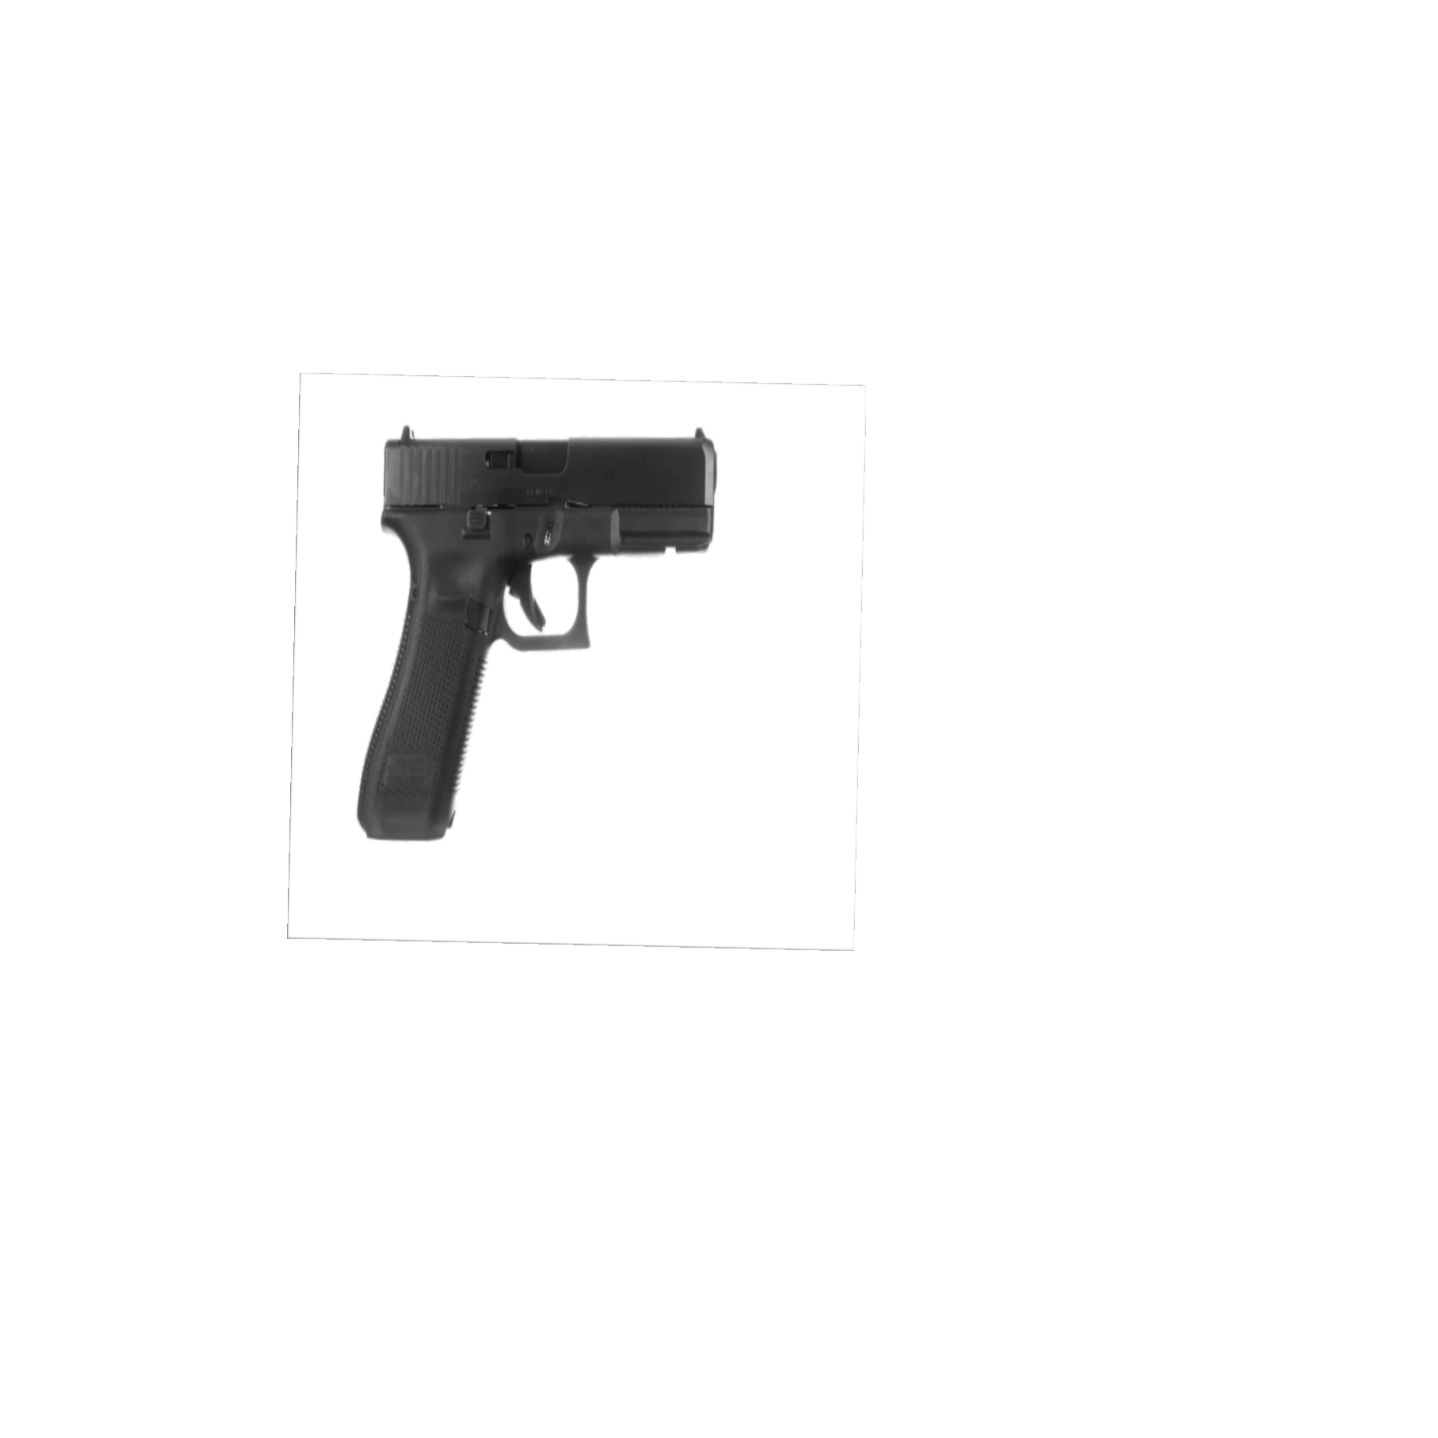gun: (354, 421, 723, 845)
